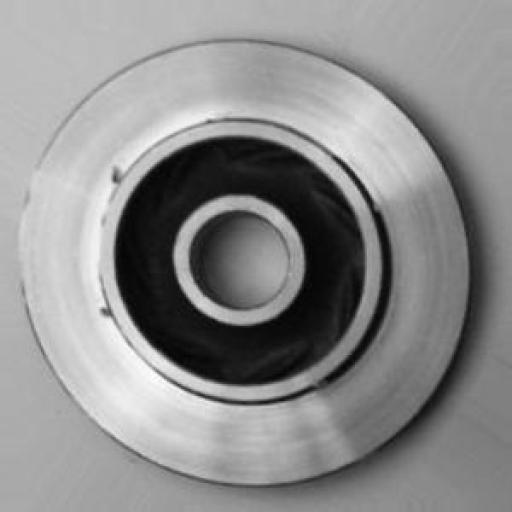defect: (63, 153, 143, 355)
